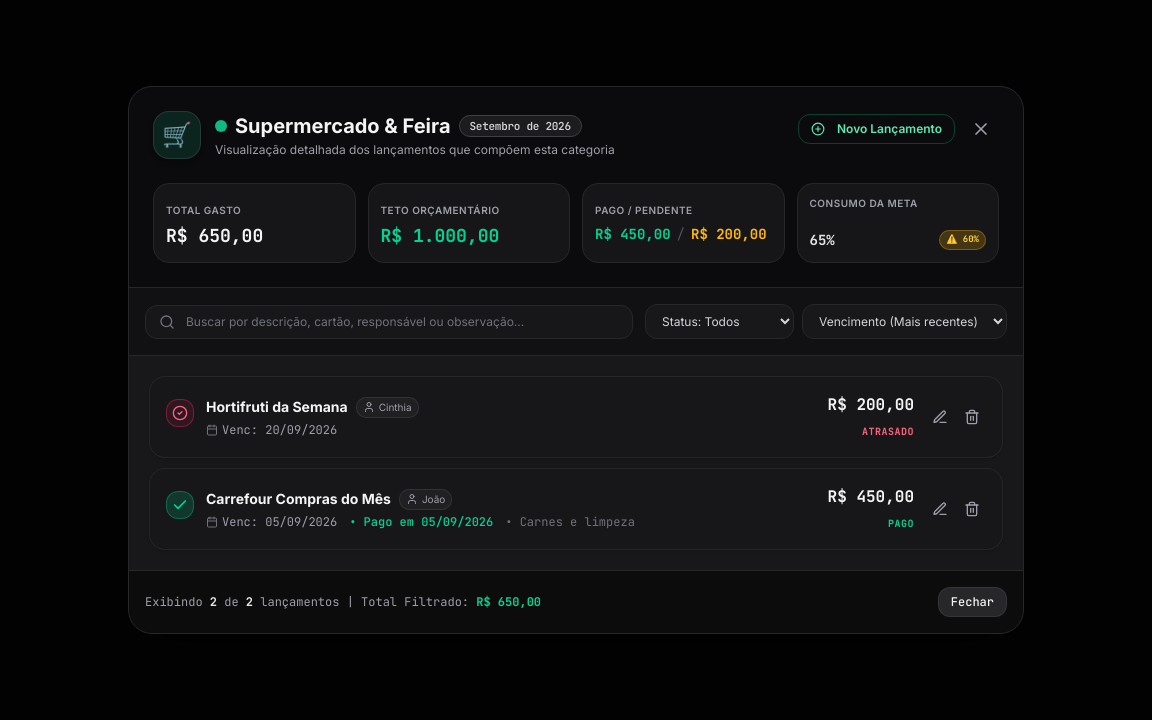
Visualização de Lançamentos por Categoria (CategoryExpensesModal) › permite filtrar lançamentos por busca textual no modal
The width and height of the screenshot is (1152, 720).
Type "Hortifruti" into the field with placeholder "Buscar por descrição, cartão, responsável ou observação..." at (389, 322), box [145,304,633,338]
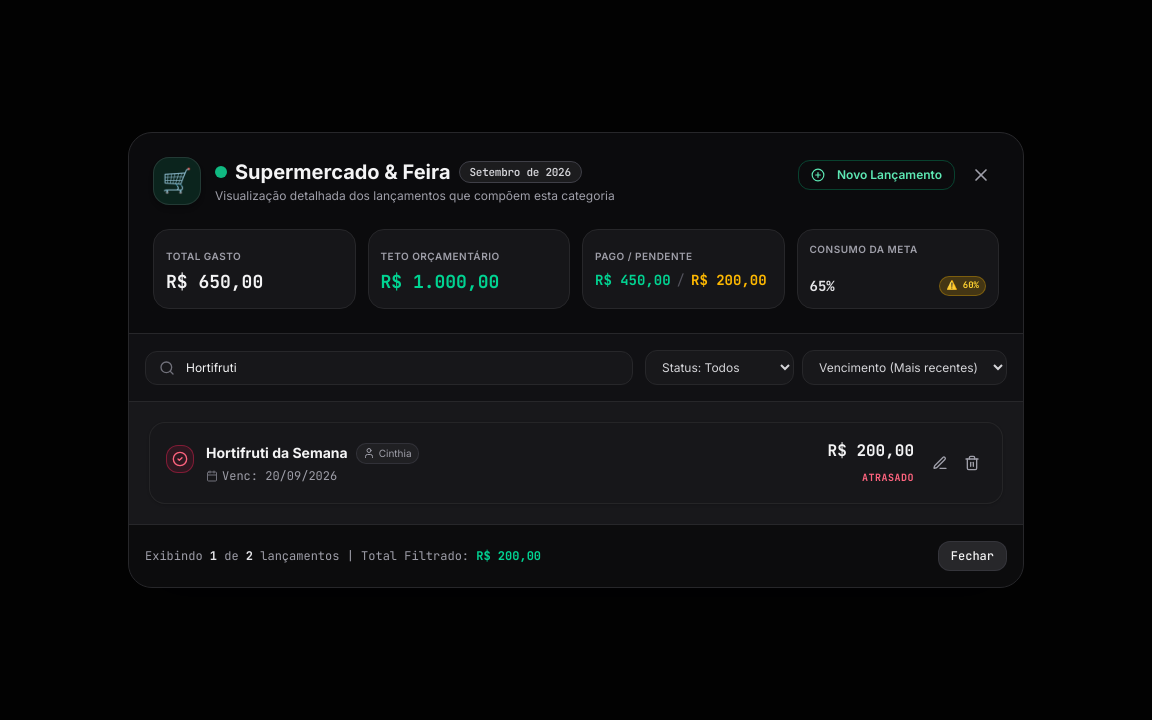
Expected: the heading "Hortifruti da Semana" is shown, [206,443,348,463]
Now the heading "Carrefour Compras do Mês" is gone
